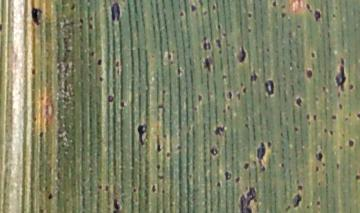tarspot: (238, 185, 258, 213), (334, 56, 346, 94), (256, 141, 267, 171), (135, 121, 148, 146), (28, 6, 43, 27), (109, 2, 122, 24), (156, 88, 166, 115), (235, 44, 247, 66), (263, 78, 275, 97), (292, 192, 303, 210), (202, 55, 212, 73), (201, 36, 212, 52), (249, 67, 259, 84), (213, 124, 225, 138), (312, 9, 323, 22), (111, 197, 119, 213), (209, 143, 218, 157), (155, 133, 161, 154), (314, 151, 324, 163), (294, 96, 303, 109), (214, 36, 223, 49), (223, 171, 232, 183), (305, 68, 313, 80), (304, 3, 312, 15), (175, 65, 183, 76), (37, 130, 46, 139), (165, 51, 173, 61), (225, 90, 233, 100), (243, 161, 250, 172), (118, 100, 126, 109), (234, 92, 242, 101), (279, 10, 286, 20), (353, 172, 360, 182), (69, 2, 76, 12), (115, 60, 120, 74), (348, 138, 354, 149), (106, 93, 113, 102), (190, 3, 197, 12), (196, 93, 203, 102), (154, 173, 163, 180), (163, 151, 172, 158), (87, 21, 94, 30), (151, 183, 157, 193), (155, 162, 161, 172), (215, 21, 221, 31), (95, 58, 103, 65), (30, 67, 37, 75), (309, 51, 316, 59), (319, 84, 327, 91), (284, 205, 291, 213), (201, 10, 209, 17), (88, 51, 95, 59), (355, 110, 360, 121), (47, 191, 53, 200), (348, 82, 354, 91), (178, 9, 184, 18), (246, 12, 253, 19), (175, 144, 182, 151), (295, 23, 302, 30), (294, 63, 301, 70), (98, 75, 104, 83), (104, 184, 110, 192), (271, 1, 277, 9), (337, 102, 343, 110), (328, 129, 334, 137), (234, 176, 240, 184), (211, 3, 217, 11), (246, 26, 252, 34), (331, 12, 337, 20), (312, 114, 317, 123), (323, 126, 328, 135), (315, 164, 320, 173), (266, 139, 271, 148), (97, 183, 103, 190), (243, 122, 249, 129), (221, 31, 227, 38), (217, 49, 224, 55), (265, 46, 271, 53), (78, 17, 84, 24), (78, 23, 84, 30), (313, 95, 320, 101), (37, 208, 45, 213), (331, 114, 337, 120), (304, 113, 310, 119), (293, 126, 299, 132), (296, 184, 302, 190), (241, 87, 247, 93), (220, 74, 226, 80), (335, 161, 339, 170), (88, 15, 94, 21), (315, 199, 320, 206), (215, 181, 220, 188), (225, 103, 230, 110), (338, 145, 343, 151), (279, 163, 285, 168), (221, 108, 226, 114), (347, 110, 351, 117), (131, 188, 136, 193), (343, 116, 348, 121), (1, 23, 4, 30)
